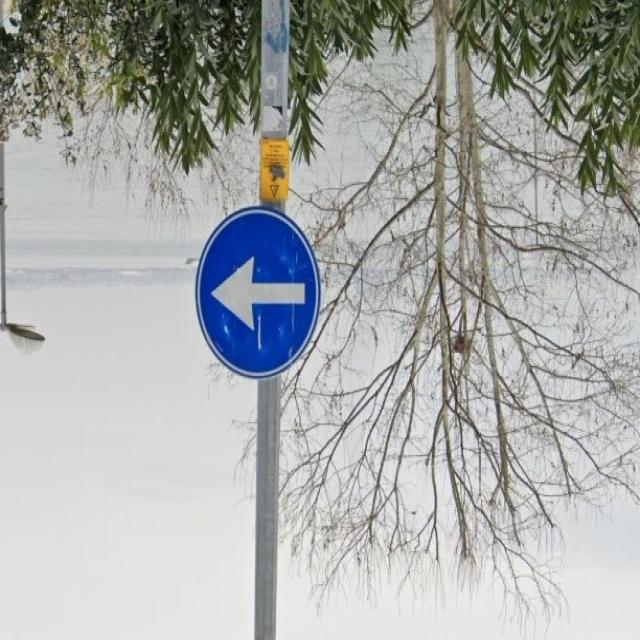Turn Left: (197, 199, 323, 384)
